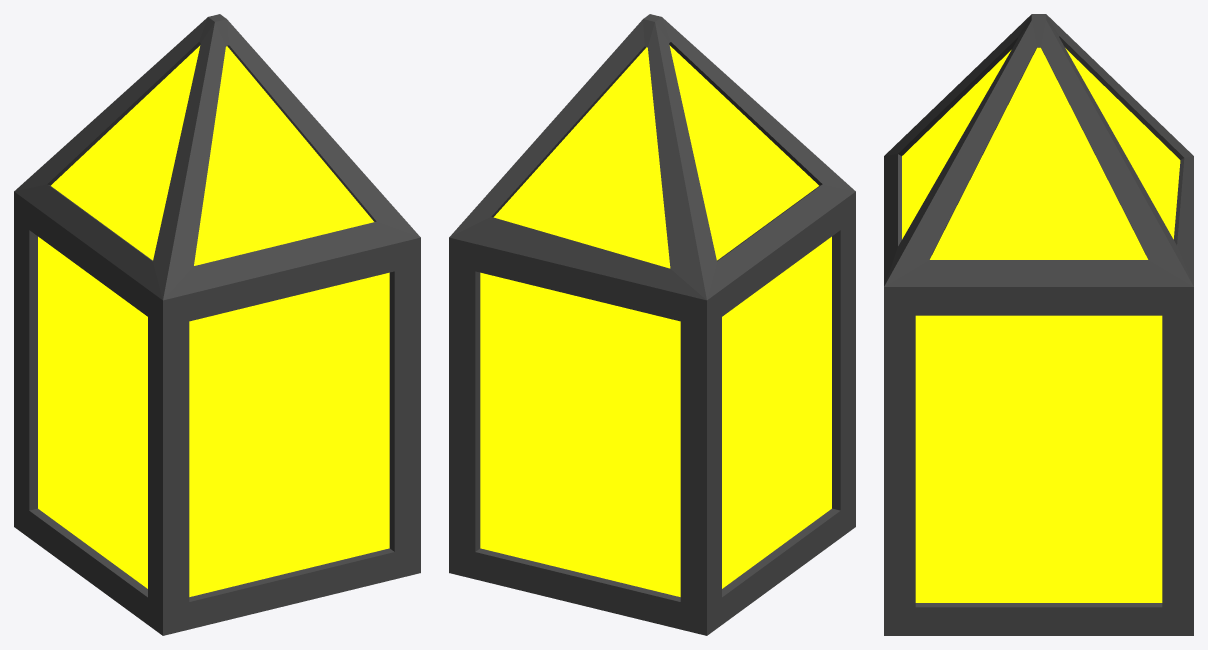
File: Lantern.fbx
The picture shows the model from 3 angles, left to right: view 1: azimuth 30°, elevation 25°; view 2: azimuth 150°, elevation 25°; view 3: azimuth 270°, elevation 25°; orthographic projection. The views are drawn at different scales.
Visible parts, largest first — view 1: Lantern; view 2: Lantern; view 3: Lantern.
Part boxes in pixels (x1,y1,x2,y2): Lantern: (14,14,420,635); Lantern: (449,14,855,635); Lantern: (884,14,1193,635).
Size of the model in its own units: 200 by 394 by 200.
